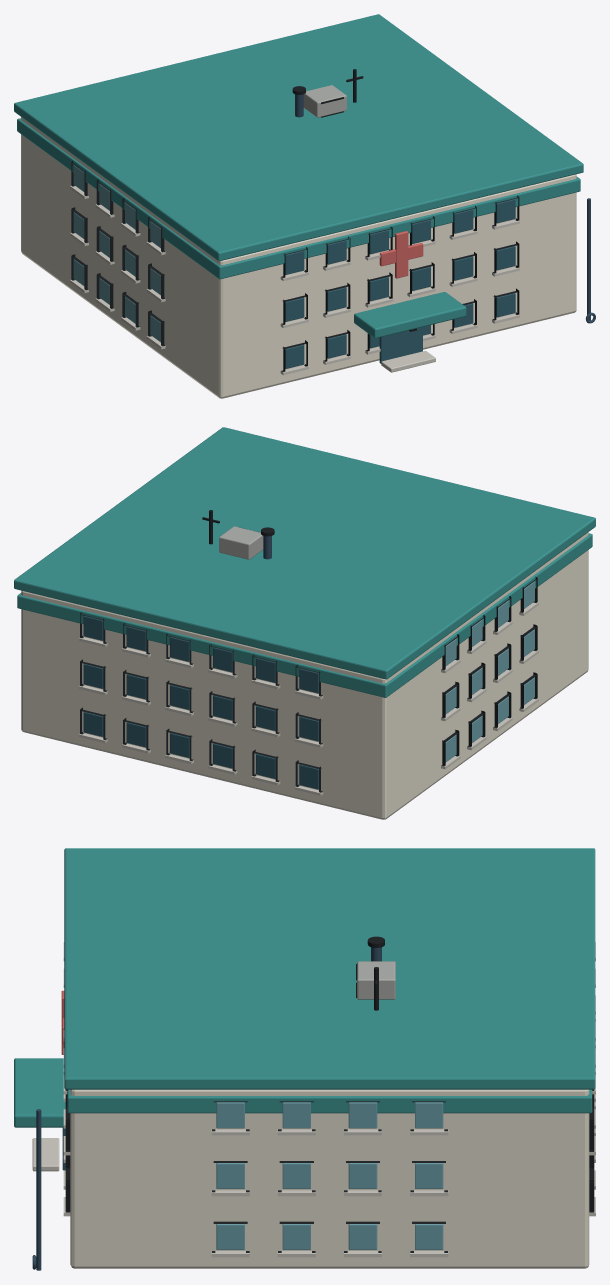
File: CIV_HEALTH_3x3_001.glb
3 views of the same model, one above another, from view 1: azimuth 30°, elevation 25°; view 2: azimuth 150°, elevation 25°; view 3: azimuth 270°, elevation 25° (orthographic). The views are drawn at different scales.
Parts seen in each view (by area): view 1: CIV_HEALTH_3x3_001_Visual; view 2: CIV_HEALTH_3x3_001_Visual; view 3: CIV_HEALTH_3x3_001_Visual.
Part boxes in pixels (x1,y1,x2,y2): CIV_HEALTH_3x3_001_Visual: (14, 14, 595, 398); CIV_HEALTH_3x3_001_Visual: (14, 427, 595, 819); CIV_HEALTH_3x3_001_Visual: (14, 848, 595, 1270).
Size of what is drawn, in the model's own units: 5.38 by 2.56 by 5.72.
